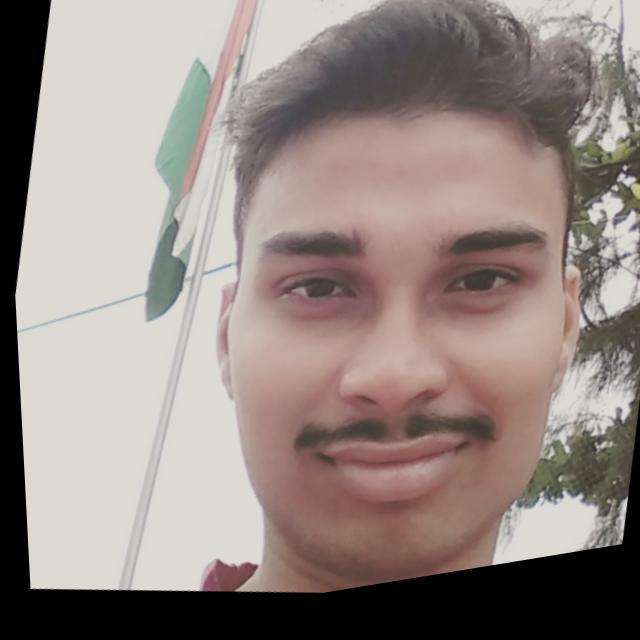Nonhelmet: (207, 0, 598, 571)
